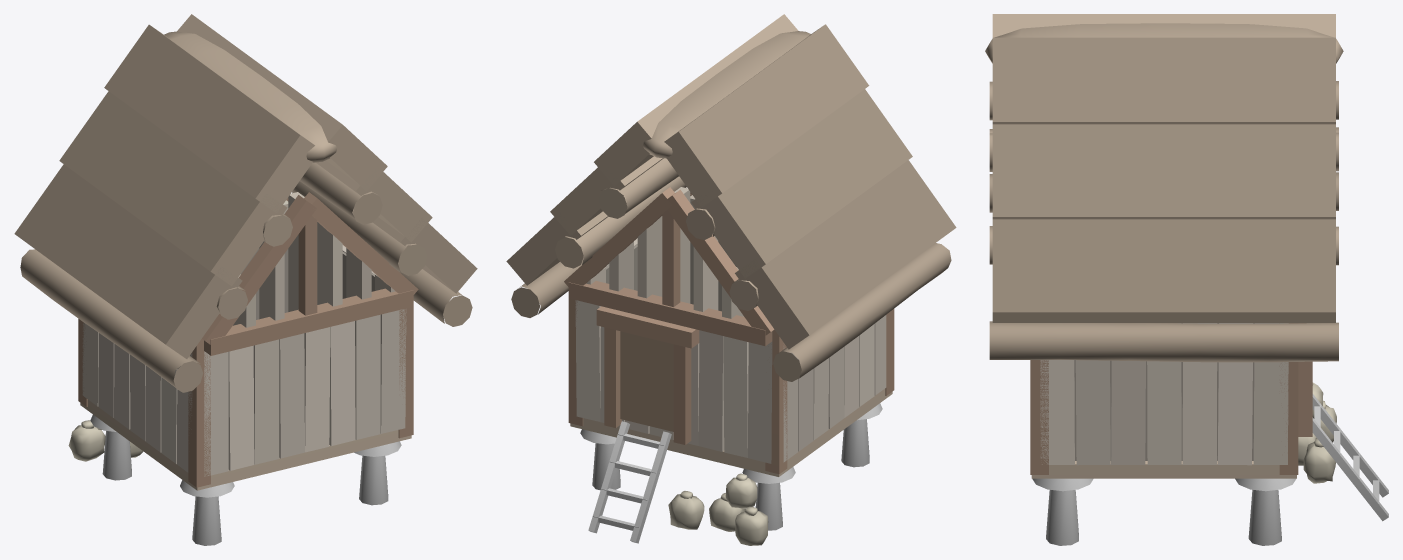
File: hw_granary.glb
3 renders of one model, left to right at view 1: azimuth 30°, elevation 25°; view 2: azimuth 150°, elevation 25°; view 3: azimuth 270°, elevation 25°, orthographic. The views are drawn at different scales.
Visible parts, largest first — view 1: Building; view 2: Building; view 3: Building.
Part boxes in pixels (bbox=[...]): Building: bbox=[14, 14, 477, 545]; Building: bbox=[506, 14, 956, 545]; Building: bbox=[985, 14, 1388, 545].
Bounding box in the file's own units: 2.62 × 3.32 × 2.59.
